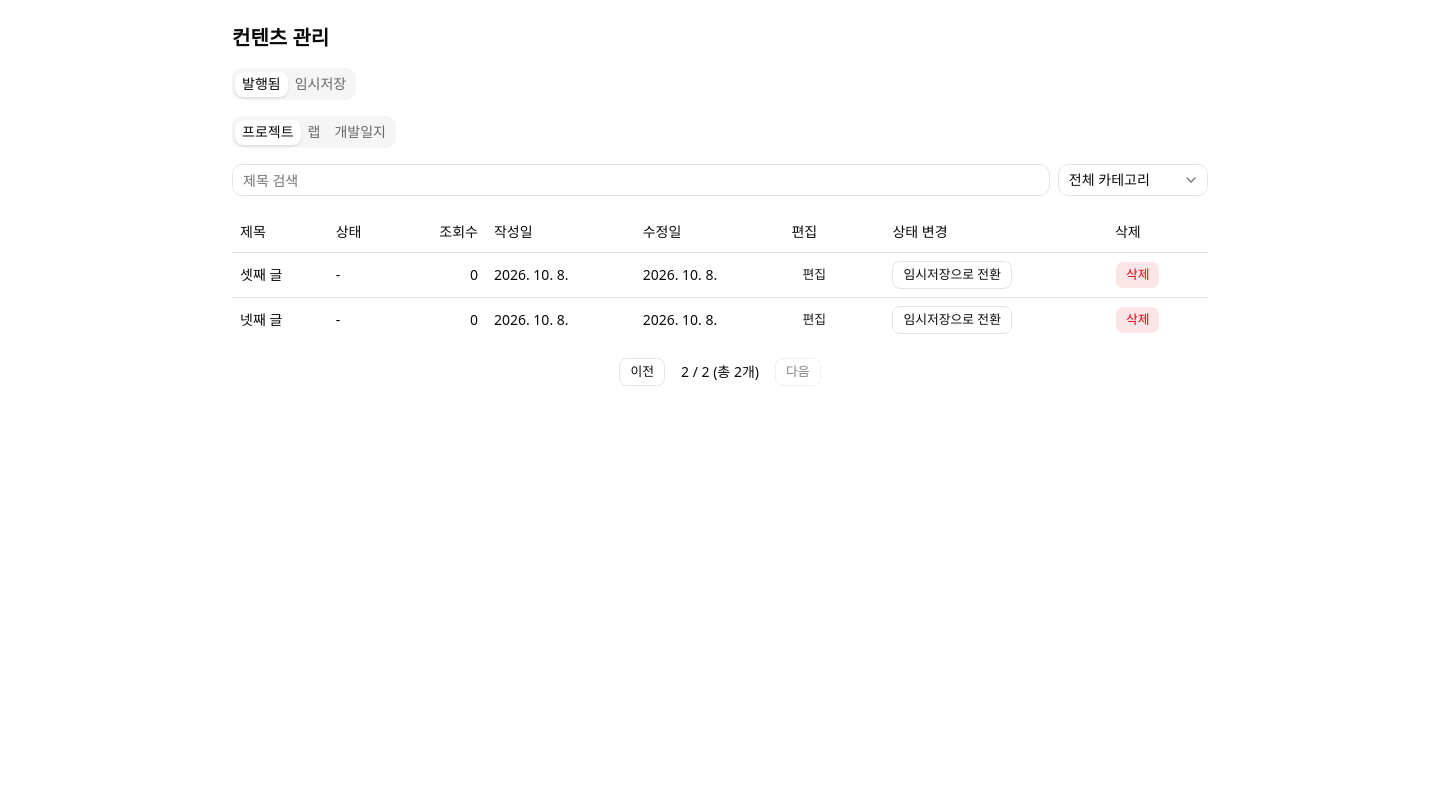
PostListPage 글 삭제 › 정상 › 2쪽에 글이 여러 건이면 삭제 뒤 같은 page 2로 다시 조회해야 한다
This screenshot has width=1440, height=810.
Expected: the text "셋째 글" is shown, [232,252,328,297]
Click the button "삭제" in the row of "셋째 글".
click(1138, 274)  # box [1115,260,1160,288]
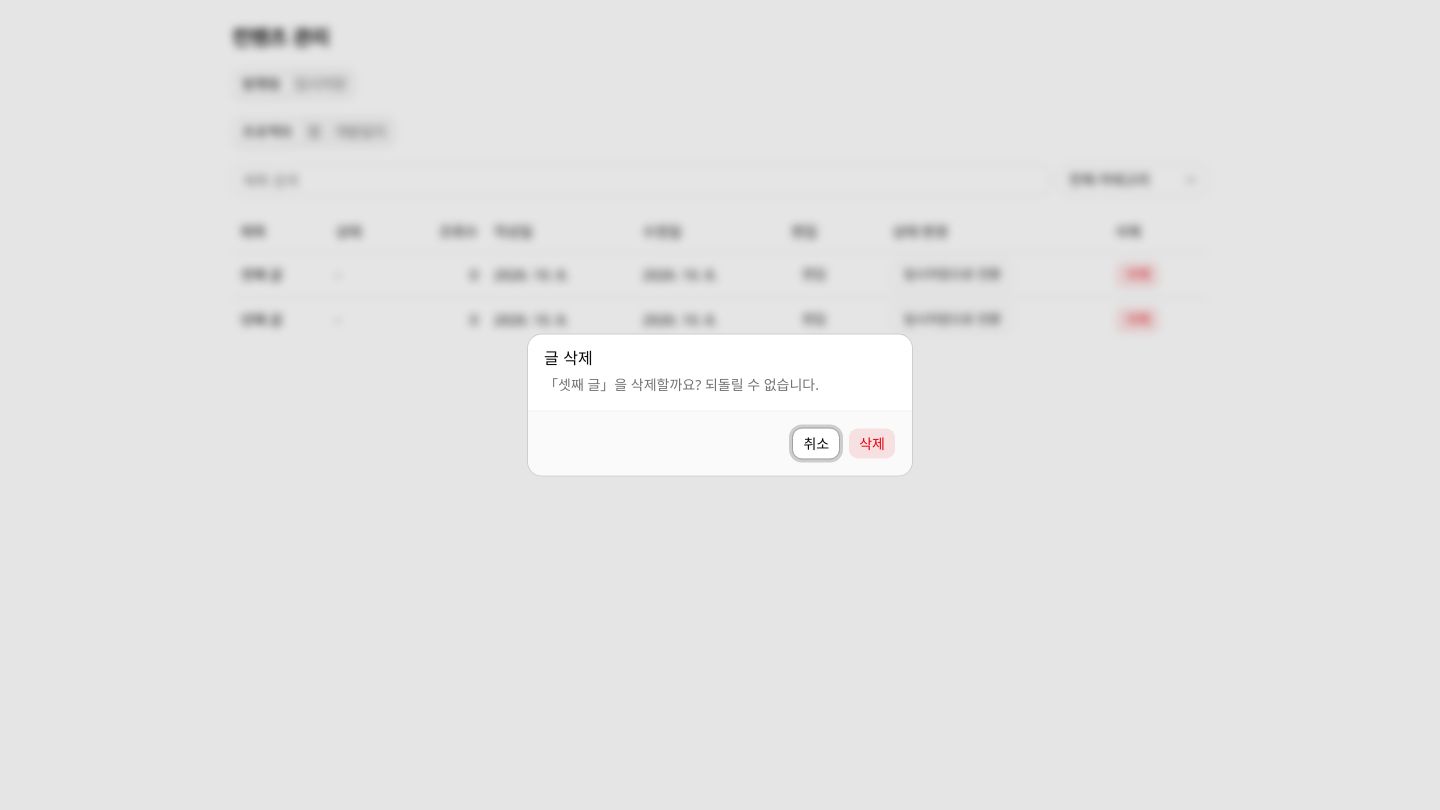
Click the button "삭제".
click(872, 444)  # box [848,428,896,460]
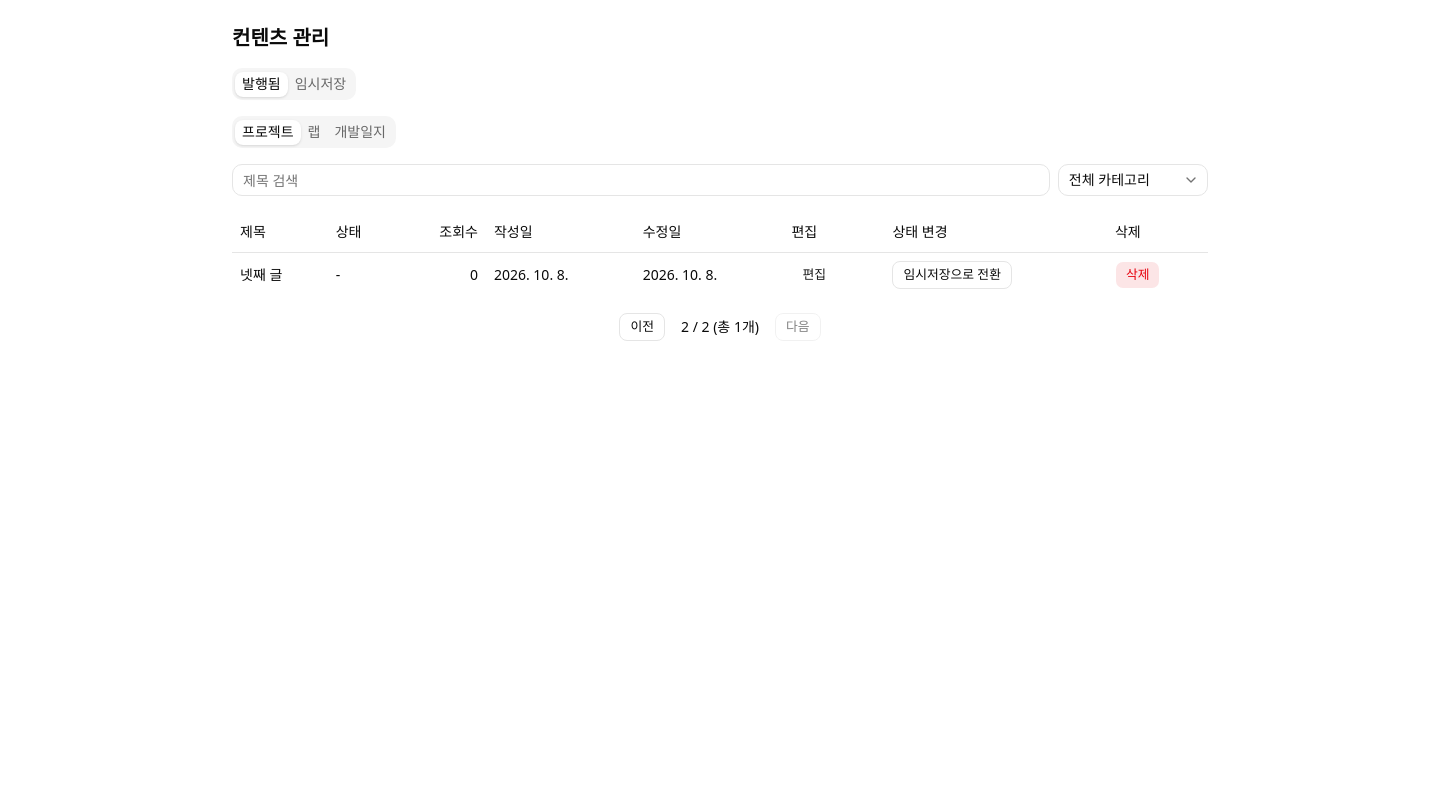
Expected: the text "넷째 글" is shown, [232,252,328,296]
Expected: the text "셋째 글" is gone
